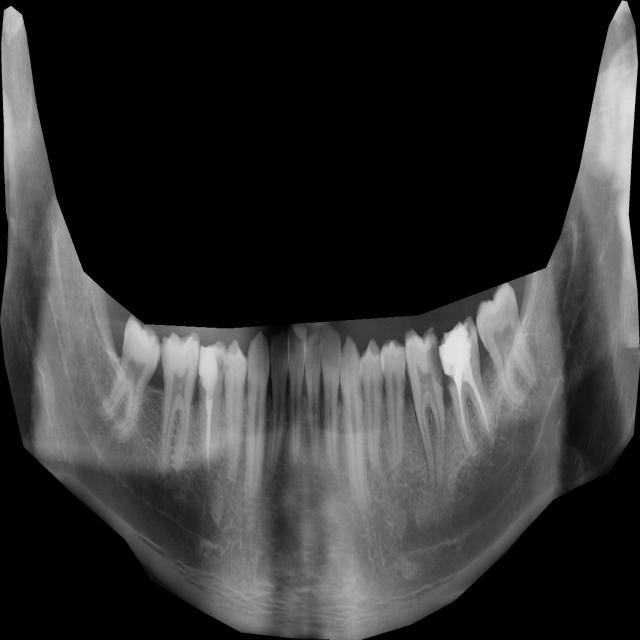mandibula: (0, 0, 640, 640)
